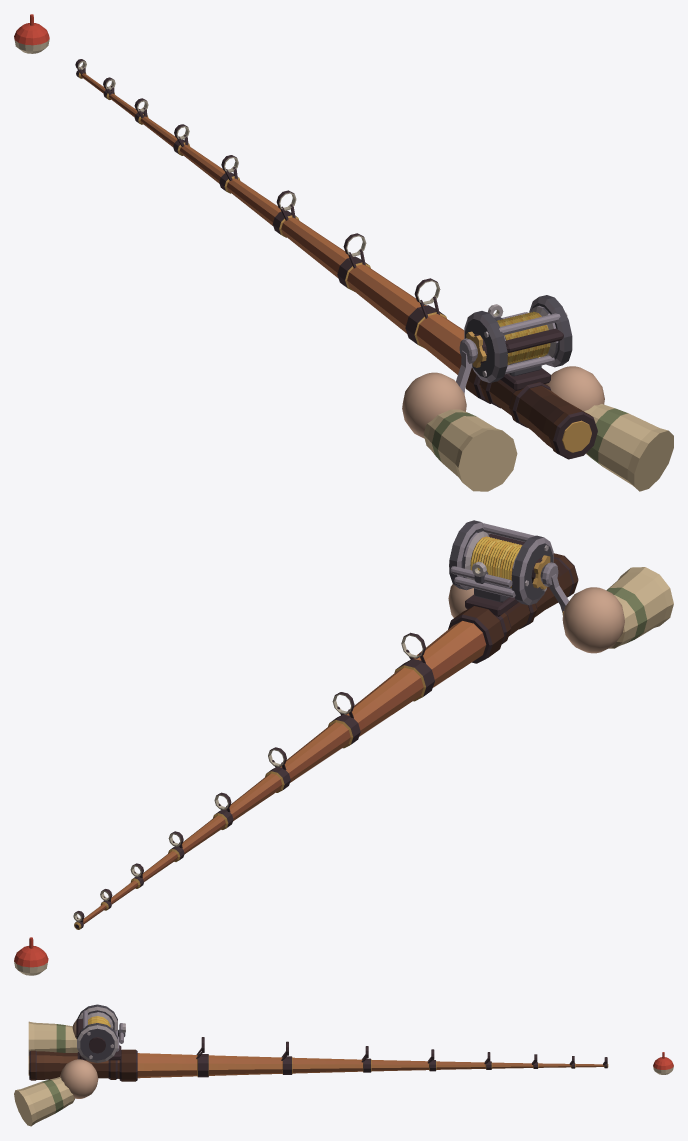
Rendered from rod.glb.
3 renders of one model, top to bottom at view 1: azimuth 30°, elevation 25°; view 2: azimuth 150°, elevation 25°; view 3: azimuth 270°, elevation 25°, orthographic. The views are drawn at different scales.
Visible parts, largest first — view 1: ReelBodyGeometry, Blank, LeftHandSleeveGeometry, RightHandSleeveGeometry, LeftHandGeometry, RightHandGeometry, LinePackGeometry, Guide00Geometry, FloatGeometry, Guide01Geometry; view 2: Blank, ReelBodyGeometry, LeftHandSleeveGeometry, LeftHandGeometry, LinePackGeometry, Guide00Geometry, FloatGeometry, Guide01Geometry; view 3: Blank, ReelBodyGeometry, RightHandSleeveGeometry, LeftHandSleeveGeometry, RightHandGeometry, Guide00Geometry, FloatGeometry, Guide01Geometry.
Part boxes in pixels (bbox=[...]): ReelBodyGeometry: bbox=[464, 295, 597, 459]; Blank: bbox=[81, 73, 464, 374]; LeftHandSleeveGeometry: bbox=[423, 409, 517, 491]; RightHandSleeveGeometry: bbox=[584, 404, 673, 491]; LeftHandGeometry: bbox=[402, 372, 466, 438]; RightHandGeometry: bbox=[546, 366, 604, 411]; LinePackGeometry: bbox=[497, 311, 550, 364]; Guide00Geometry: bbox=[405, 278, 446, 348]; FloatGeometry: bbox=[14, 14, 49, 53]; Guide01Geometry: bbox=[337, 233, 370, 291]; Blank: bbox=[83, 621, 486, 924]; ReelBodyGeometry: bbox=[448, 520, 578, 663]; LeftHandSleeveGeometry: bbox=[606, 567, 673, 648]; LeftHandGeometry: bbox=[562, 587, 624, 653]; LinePackGeometry: bbox=[470, 536, 522, 587]; Guide00Geometry: bbox=[394, 632, 434, 701]; FloatGeometry: bbox=[14, 937, 48, 975]; Guide01Geometry: bbox=[328, 692, 360, 748]; Blank: bbox=[137, 1053, 603, 1078]; ReelBodyGeometry: bbox=[28, 1004, 137, 1081]; RightHandSleeveGeometry: bbox=[14, 1077, 75, 1126]; LeftHandSleeveGeometry: bbox=[28, 1021, 78, 1055]; RightHandGeometry: bbox=[60, 1059, 98, 1098]; Guide00Geometry: bbox=[196, 1037, 208, 1077]; FloatGeometry: bbox=[653, 1052, 673, 1074]; Guide01Geometry: bbox=[281, 1041, 292, 1074].
Size of the model in its own units: 0.6128 by 0.4185 by 2.76.
